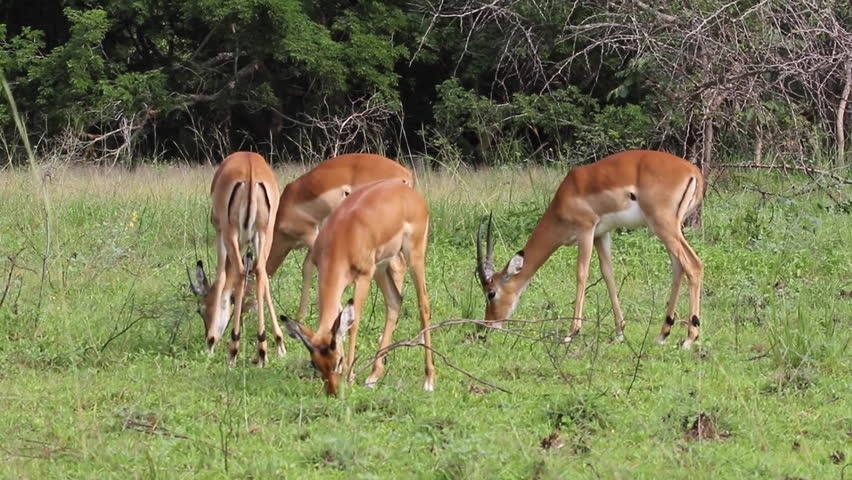impala: (470, 147, 715, 357), (283, 172, 440, 410), (243, 151, 420, 336), (181, 142, 288, 365)
